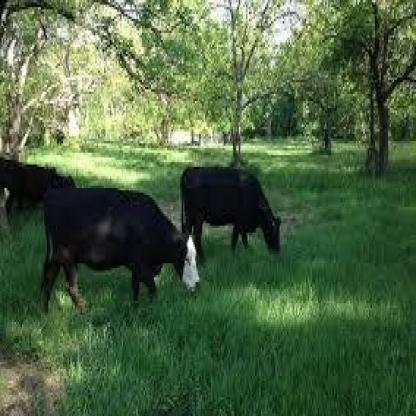cow: (41, 187, 201, 311), (180, 167, 280, 265)
